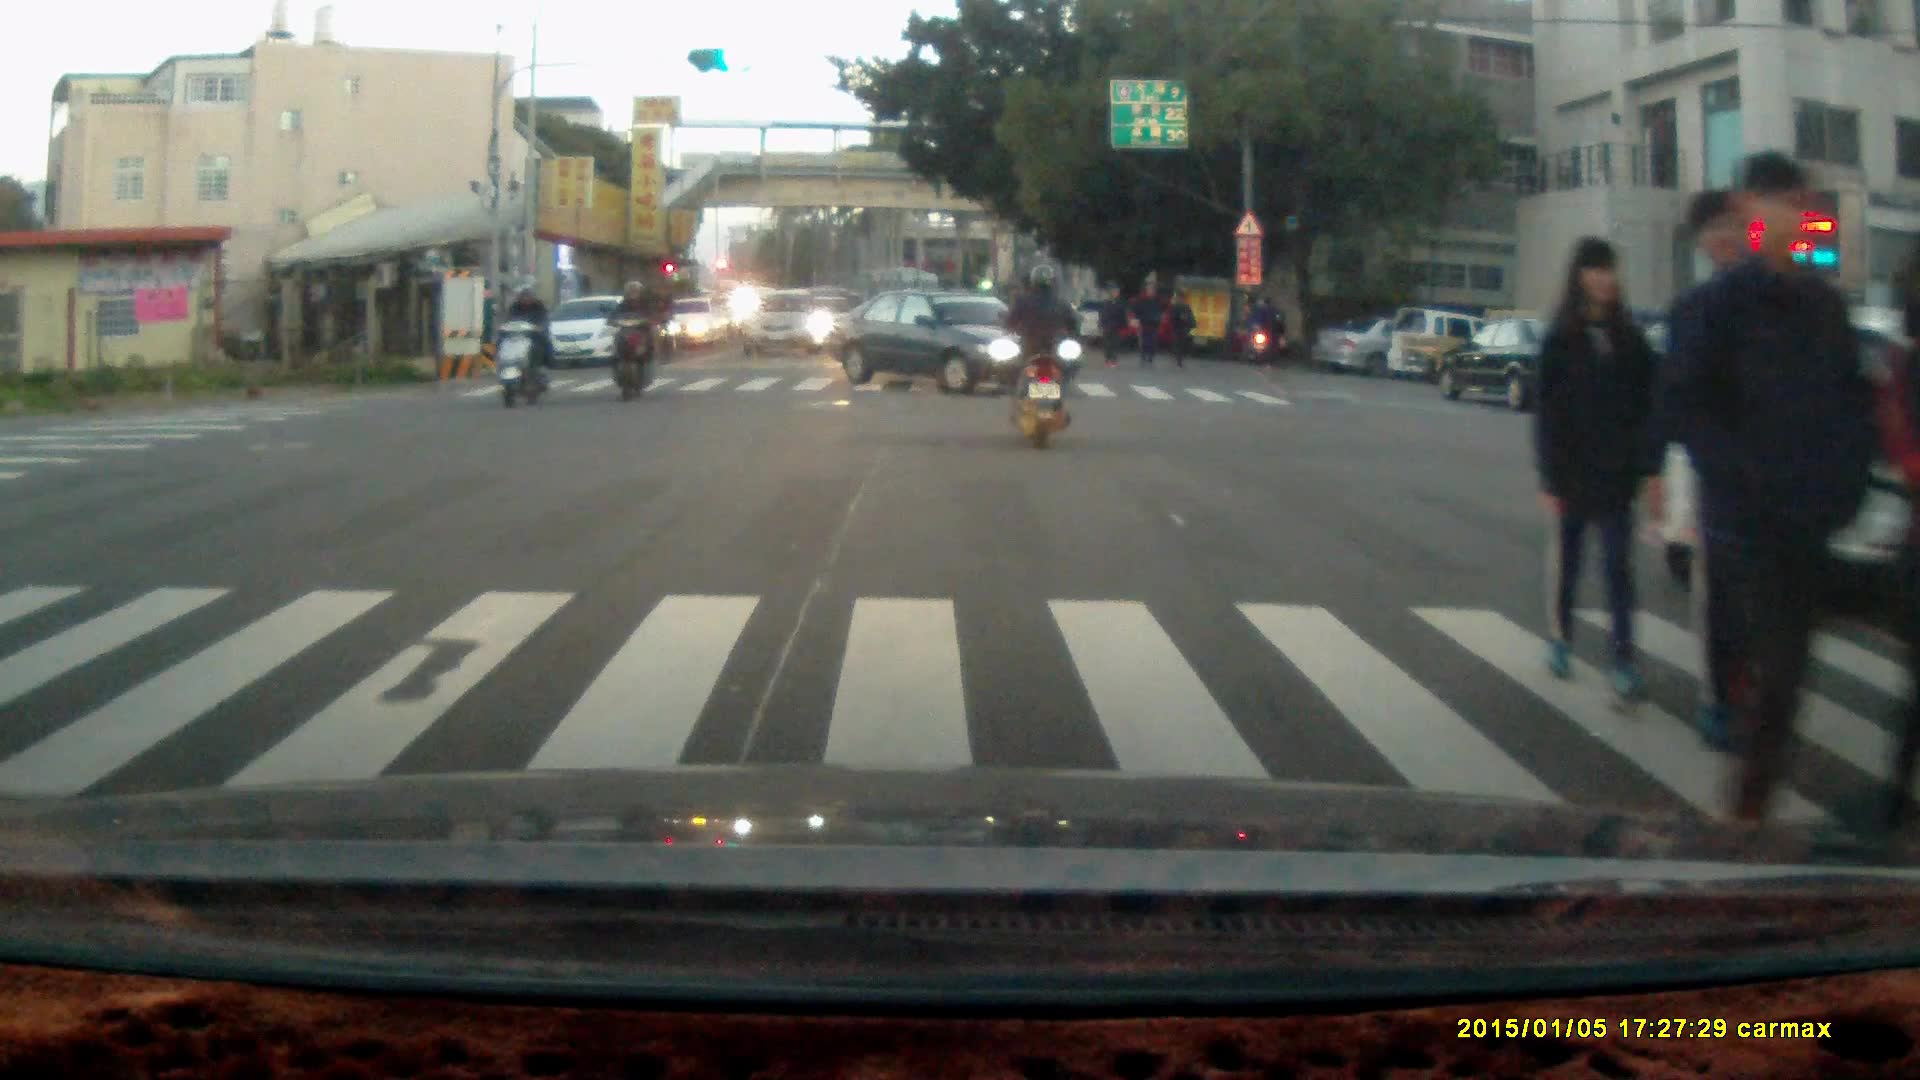pedestrian: (1664, 148, 1869, 867), (1656, 186, 1786, 767), (1524, 227, 1666, 718), (1130, 278, 1163, 376), (1163, 286, 1195, 375), (1096, 283, 1126, 365), (1254, 290, 1285, 367)
rider: (999, 259, 1082, 449), (492, 278, 553, 408), (600, 276, 661, 402), (1236, 298, 1274, 363)
vehicle: (821, 281, 1085, 397), (1437, 314, 1591, 409), (1316, 309, 1490, 382), (539, 294, 651, 369), (747, 290, 830, 359)
